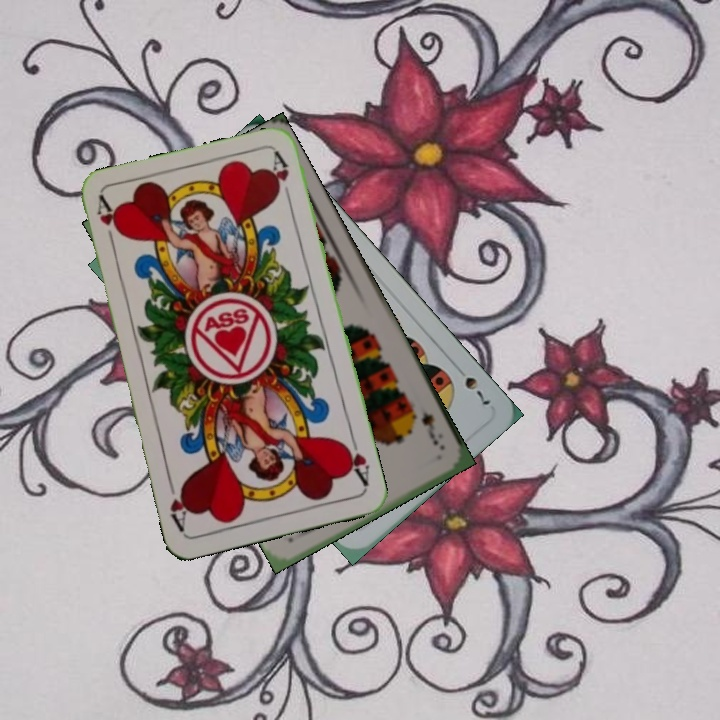HA: (339, 431, 372, 489), (92, 194, 124, 252)
S7: (450, 361, 493, 408)
S9: (417, 408, 442, 448)
